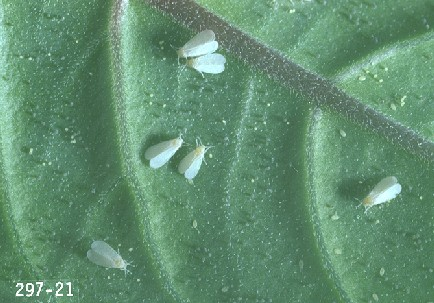whitefly: (354, 174, 402, 213), (145, 131, 191, 170), (87, 238, 134, 275), (177, 136, 214, 180), (174, 26, 218, 63), (181, 53, 228, 77)
